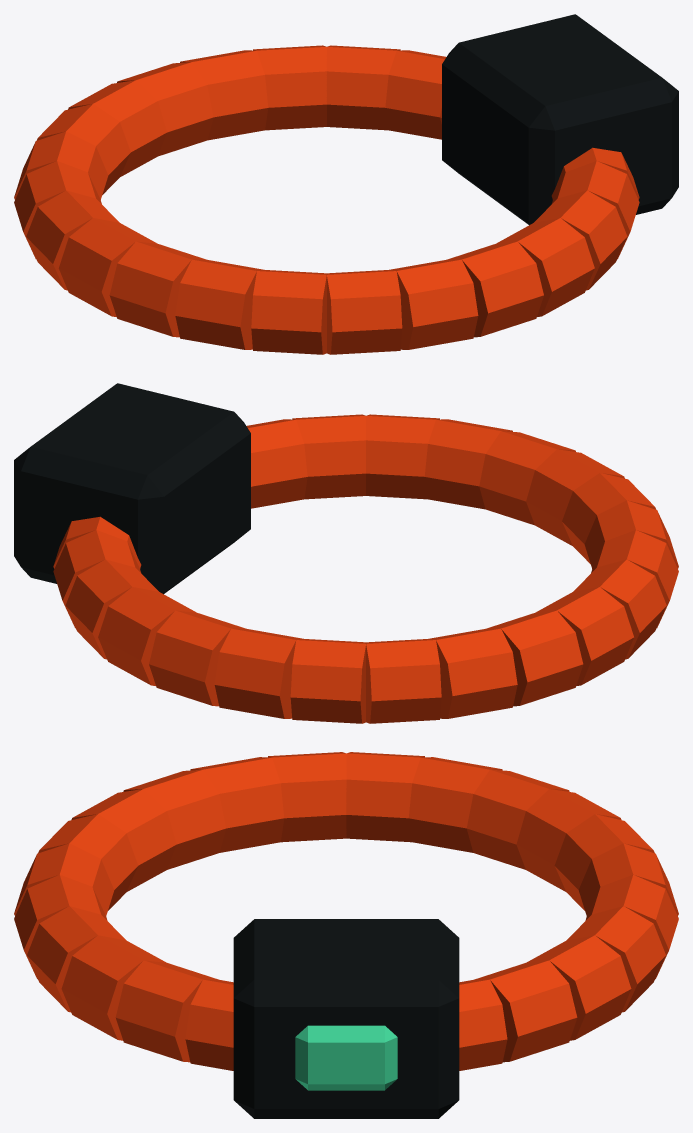
File: SM_MP_Tracking_Collar.fbx
3 views of the same model, one above another, from view 1: azimuth 30°, elevation 25°; view 2: azimuth 150°, elevation 25°; view 3: azimuth 270°, elevation 25° (orthographic). The views are drawn at different scales.
Visible parts, largest first — view 1: SM_MP_Tracking_Collar; view 2: SM_MP_Tracking_Collar; view 3: SM_MP_Tracking_Collar.
Part boxes in pixels (x1,y1,x2,y2): SM_MP_Tracking_Collar: [14, 14, 678, 354]; SM_MP_Tracking_Collar: [14, 383, 678, 723]; SM_MP_Tracking_Collar: [14, 752, 678, 1118].
Bounding box in the file's own units: 70.71 × 64.92 × 15.
1 material, 1 textured.
